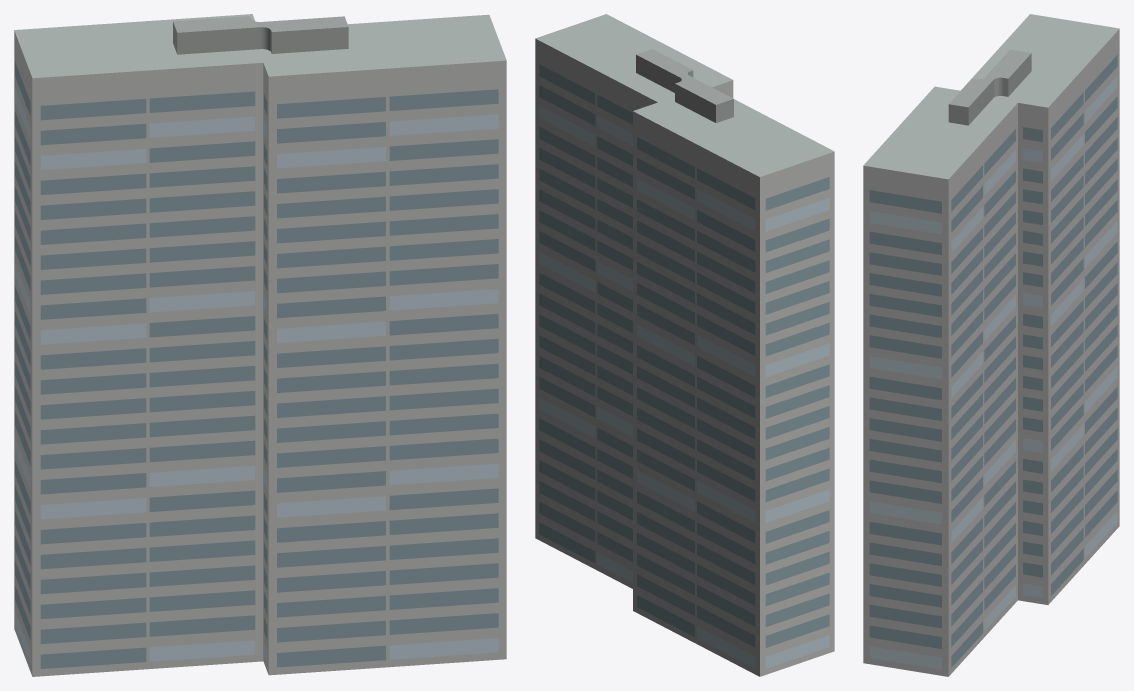
Rendered from fallback-gwanak-dream-town-131.glb.
3 views of the same model, side by side, from view 1: azimuth 30°, elevation 25°; view 2: azimuth 150°, elevation 25°; view 3: azimuth 270°, elevation 25° (orthographic). The views are drawn at different scales.
Visible parts, largest first — view 1: fallback-gwanak-dream-town-131; view 2: fallback-gwanak-dream-town-131; view 3: fallback-gwanak-dream-town-131.
Boxes of the visible parts, <box> form: fallback-gwanak-dream-town-131: <box>14,14,506,676</box>; fallback-gwanak-dream-town-131: <box>535,14,834,676</box>; fallback-gwanak-dream-town-131: <box>863,14,1119,676</box>.
Bounding box in the file's own units: 46.78 × 68 × 30.67.
